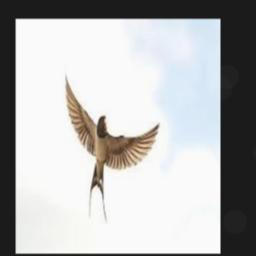Swallow: (64, 73, 158, 223)
